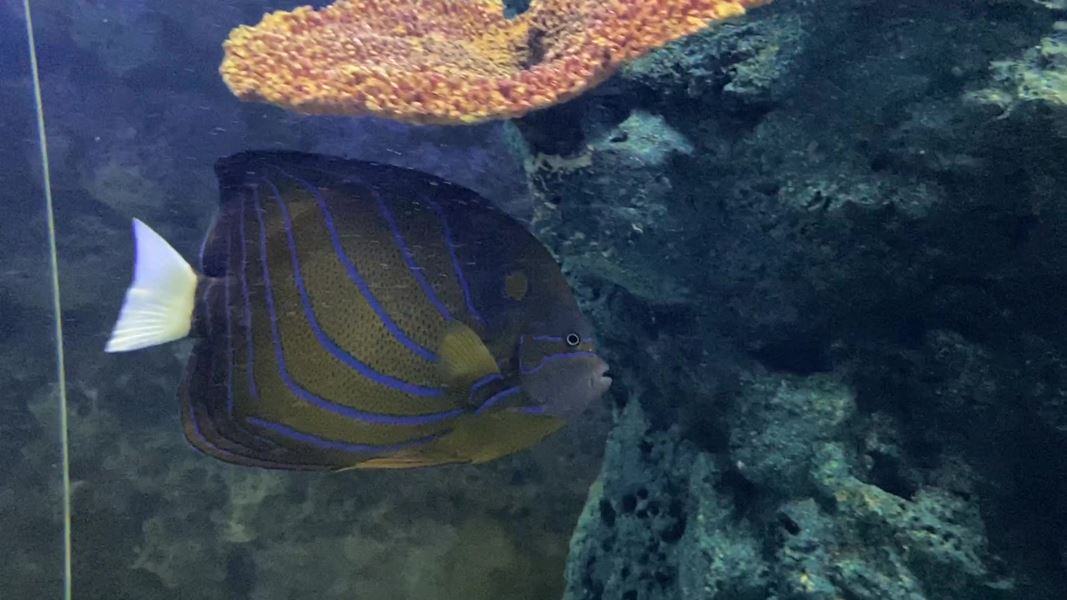Blue ring angelfish: (95, 153, 630, 495)
